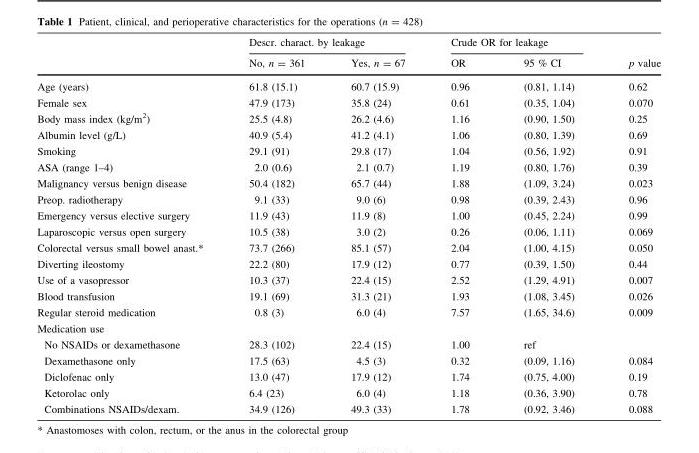table: (36, 37, 660, 414)
table column: (36, 37, 225, 414), (495, 37, 600, 414), (225, 37, 327, 414), (327, 37, 427, 414), (427, 37, 495, 414), (600, 37, 660, 414)
table column header: (36, 37, 660, 74)
table projected row header: (36, 320, 660, 336)
table row: (36, 52, 660, 74), (36, 74, 660, 94), (36, 109, 660, 127), (36, 239, 660, 256), (36, 368, 660, 385), (36, 127, 660, 143), (36, 143, 660, 159), (36, 159, 660, 175), (36, 175, 660, 191), (36, 191, 660, 207), (36, 207, 660, 223), (36, 223, 660, 239), (36, 256, 660, 272), (36, 272, 660, 288), (36, 288, 660, 304), (36, 304, 660, 320), (36, 320, 660, 336), (36, 336, 660, 352), (36, 352, 660, 368), (36, 385, 660, 401), (36, 37, 660, 52), (36, 94, 660, 109), (36, 401, 660, 414)
table spanning cell: (225, 37, 427, 52), (427, 37, 600, 52), (600, 37, 660, 74)
